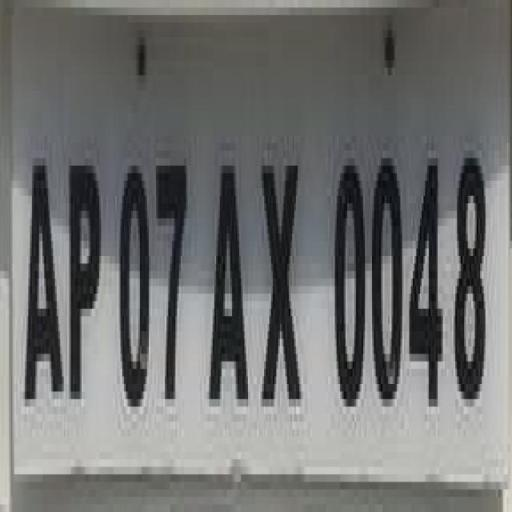number plate: (19, 0, 512, 497)
